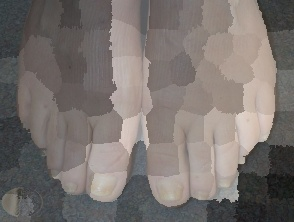Nail_psoriasis: (84, 166, 122, 204), (154, 173, 188, 203), (59, 176, 82, 198), (257, 129, 274, 144), (193, 189, 211, 203), (49, 165, 63, 180), (37, 146, 49, 158), (214, 179, 231, 187), (238, 150, 251, 159)
